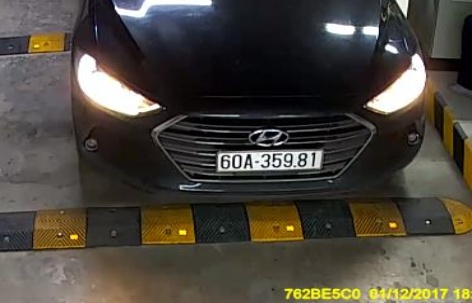plate: (213, 146, 323, 174)
